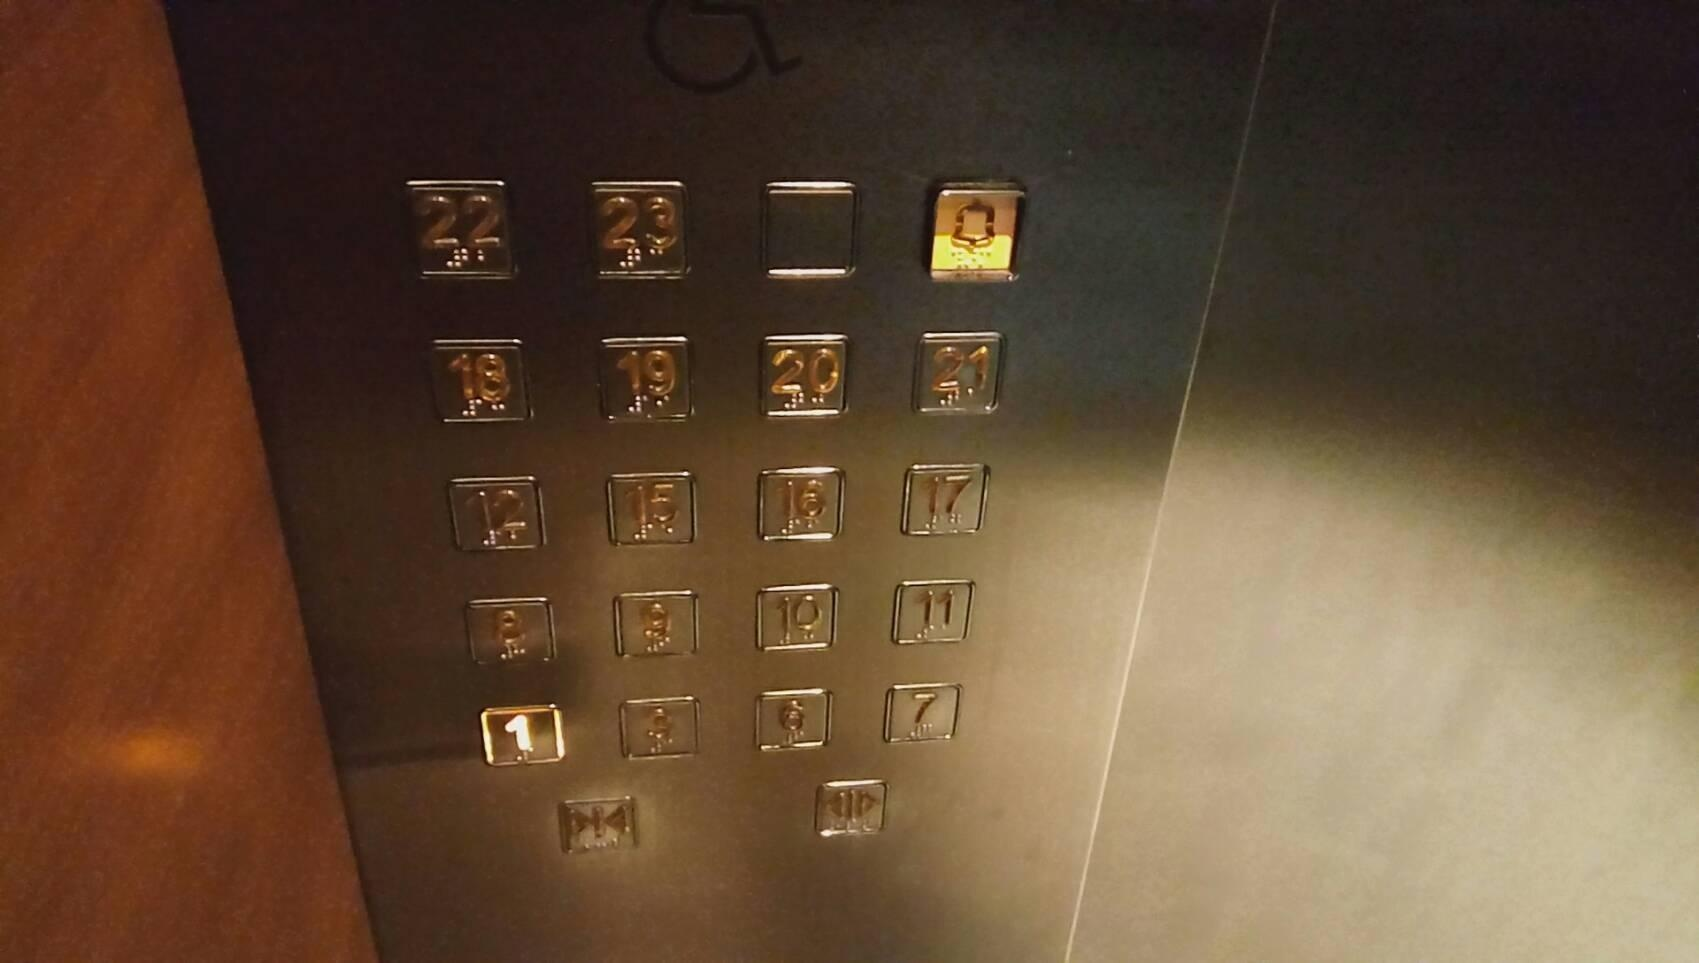1: (473, 697, 574, 776)
10: (746, 577, 844, 660)
11: (882, 571, 980, 653)
12: (443, 467, 551, 565)
15: (597, 461, 702, 559)
16: (746, 453, 849, 551)
17: (892, 451, 997, 549)
18: (425, 332, 529, 430)
19: (595, 329, 699, 427)
20: (753, 327, 857, 425)
21: (909, 325, 1013, 423)
22: (393, 167, 523, 289)
23: (573, 167, 702, 289)
3: (607, 691, 708, 770)
6: (739, 681, 840, 759)
7: (873, 675, 974, 754)
8: (457, 587, 562, 685)
9: (606, 579, 705, 667)
alarm: (913, 172, 1030, 291)
close: (546, 787, 644, 864)
empty: (747, 174, 869, 287)
open: (806, 773, 897, 846)
